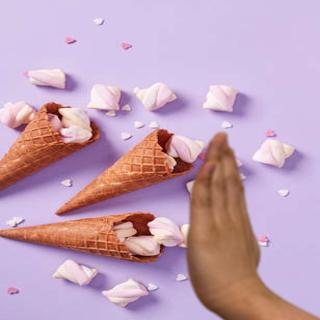RIGHT: (181, 128, 265, 309)
